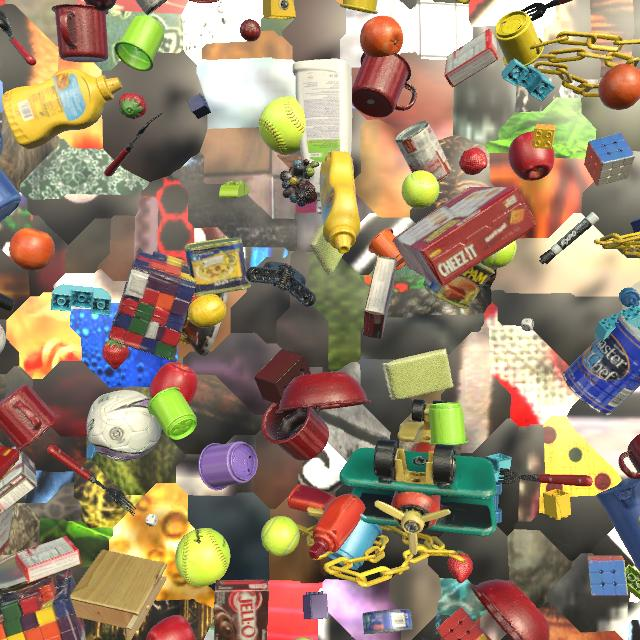ycb_002_master_chef_can: (563, 314, 640, 415)
ycb_003_cracker_box: (392, 187, 536, 285), (0, 445, 20, 555)
ycb_005_tomato_soup_can: (395, 121, 453, 183), (135, 0, 167, 15)
ycb_006_mustard_bottle: (2, 69, 122, 149), (320, 150, 360, 254)
ycb_007_tuna_fish_can: (362, 609, 413, 634)
ycb_008_pudding_box: (214, 579, 269, 640), (363, 255, 397, 339), (0, 452, 37, 515)
ycb_009_gelatin_box: (15, 536, 82, 583), (444, 29, 498, 87)
ycb_010_potted_meat_can: (185, 237, 251, 297), (423, 263, 495, 309)
ycb_012_strawberry: (459, 147, 488, 175), (102, 340, 129, 370), (447, 551, 472, 583), (119, 93, 147, 119)
ycb_013_apple: (508, 131, 555, 181), (149, 362, 198, 405), (146, 615, 195, 640)
ycb_014_lemon: (187, 294, 226, 328)
ycb_017_orange: (9, 228, 55, 271), (598, 64, 640, 110), (360, 16, 403, 57)
ycb_018_plum: (84, 0, 117, 12)
